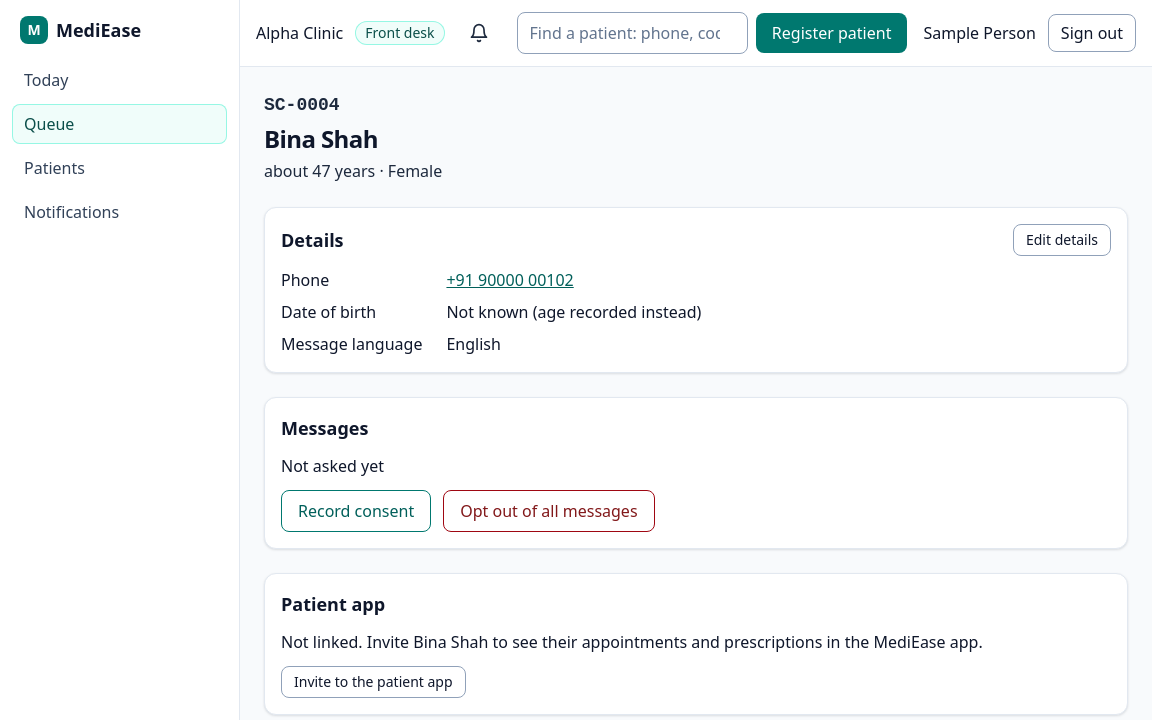
Patient app card (M6b-P1, decision 8A) › R4: an already linked record shows the API's answer
The width and height of the screenshot is (1152, 720).
Click the button "Invite to the patient app" at {"x": 373, "y": 682}, box [281,666,466,698]
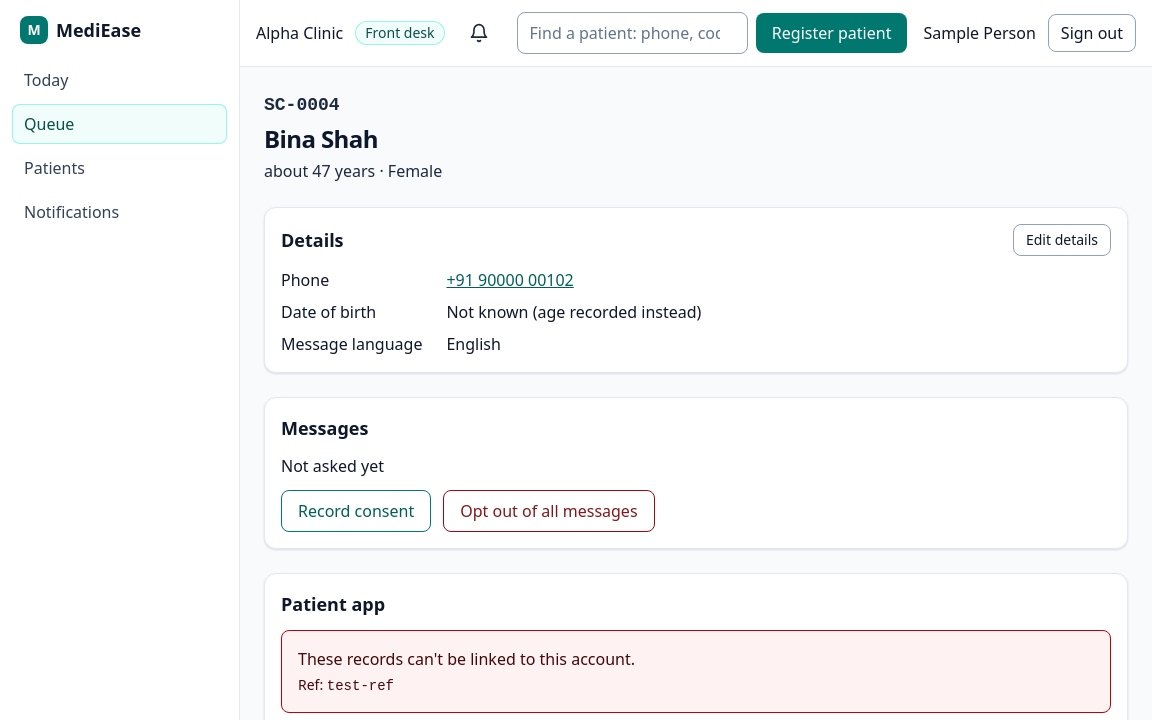
Result: the message shows "can't be linked" at [298,648,635,670]
